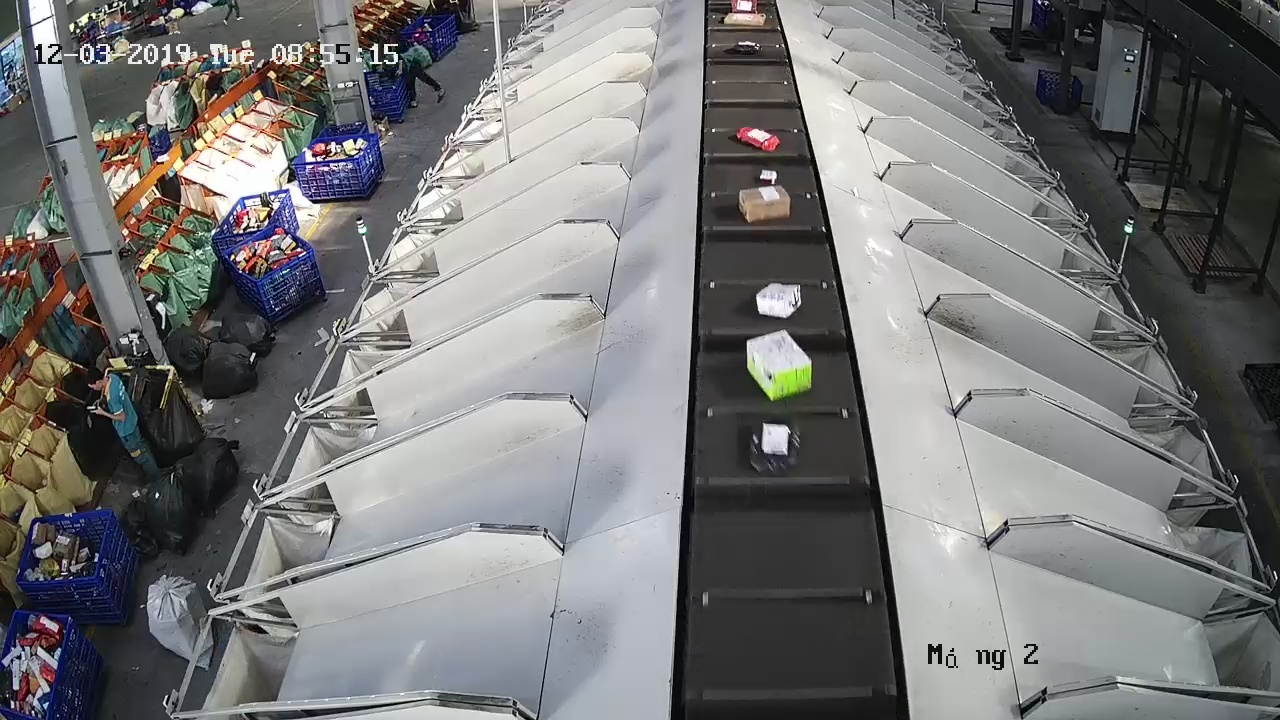parcel: (745, 327, 814, 403), (747, 416, 802, 475), (737, 185, 792, 224), (755, 281, 803, 320), (735, 126, 781, 153), (758, 168, 779, 185)
